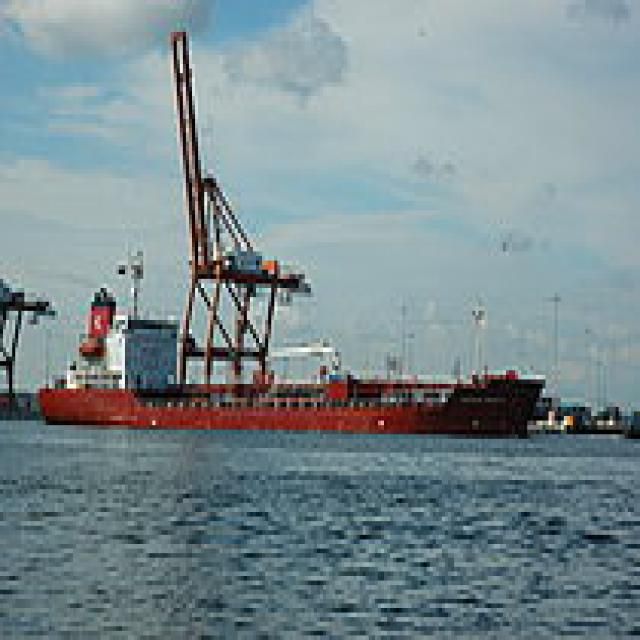Tanker: (33, 279, 546, 430)
